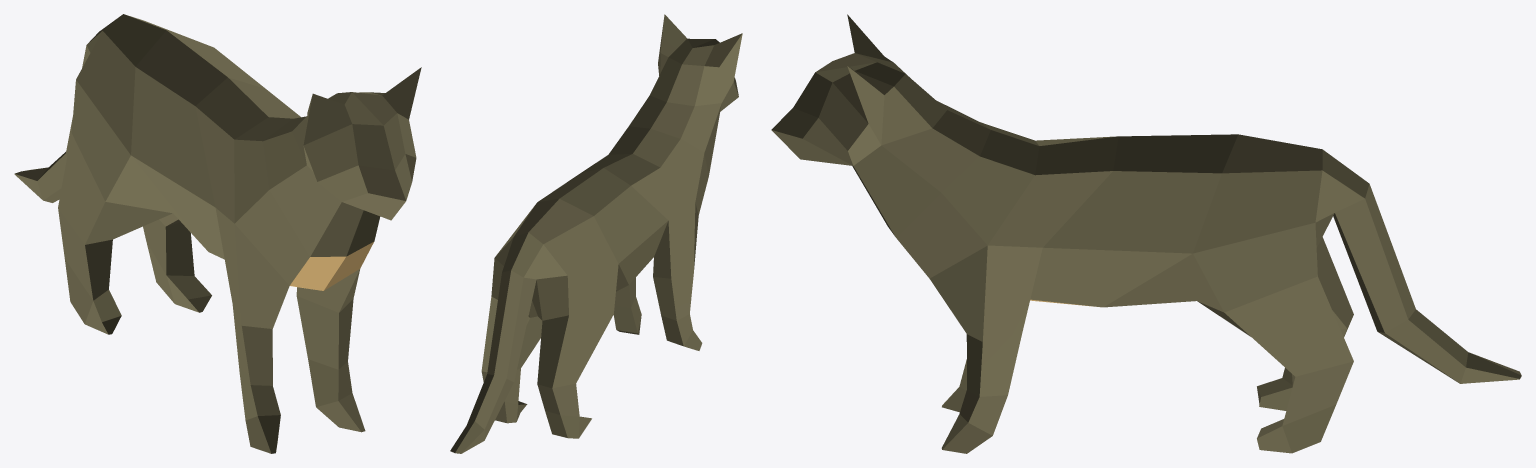
Rendered from Cat.glb.
3 views of the same model, side by side, from view 1: azimuth 30°, elevation 25°; view 2: azimuth 150°, elevation 25°; view 3: azimuth 270°, elevation 25° (orthographic). The views are drawn at different scales.
Parts seen in each view (by area): view 1: ORIGAMI_Chat; view 2: ORIGAMI_Chat; view 3: ORIGAMI_Chat.
Part boxes in pixels (bbox=[...]): ORIGAMI_Chat: bbox=[14, 14, 421, 453]; ORIGAMI_Chat: bbox=[450, 14, 742, 453]; ORIGAMI_Chat: bbox=[771, 14, 1521, 453].
Size of the model in its own units: 12.69 by 35.28 by 61.89.
